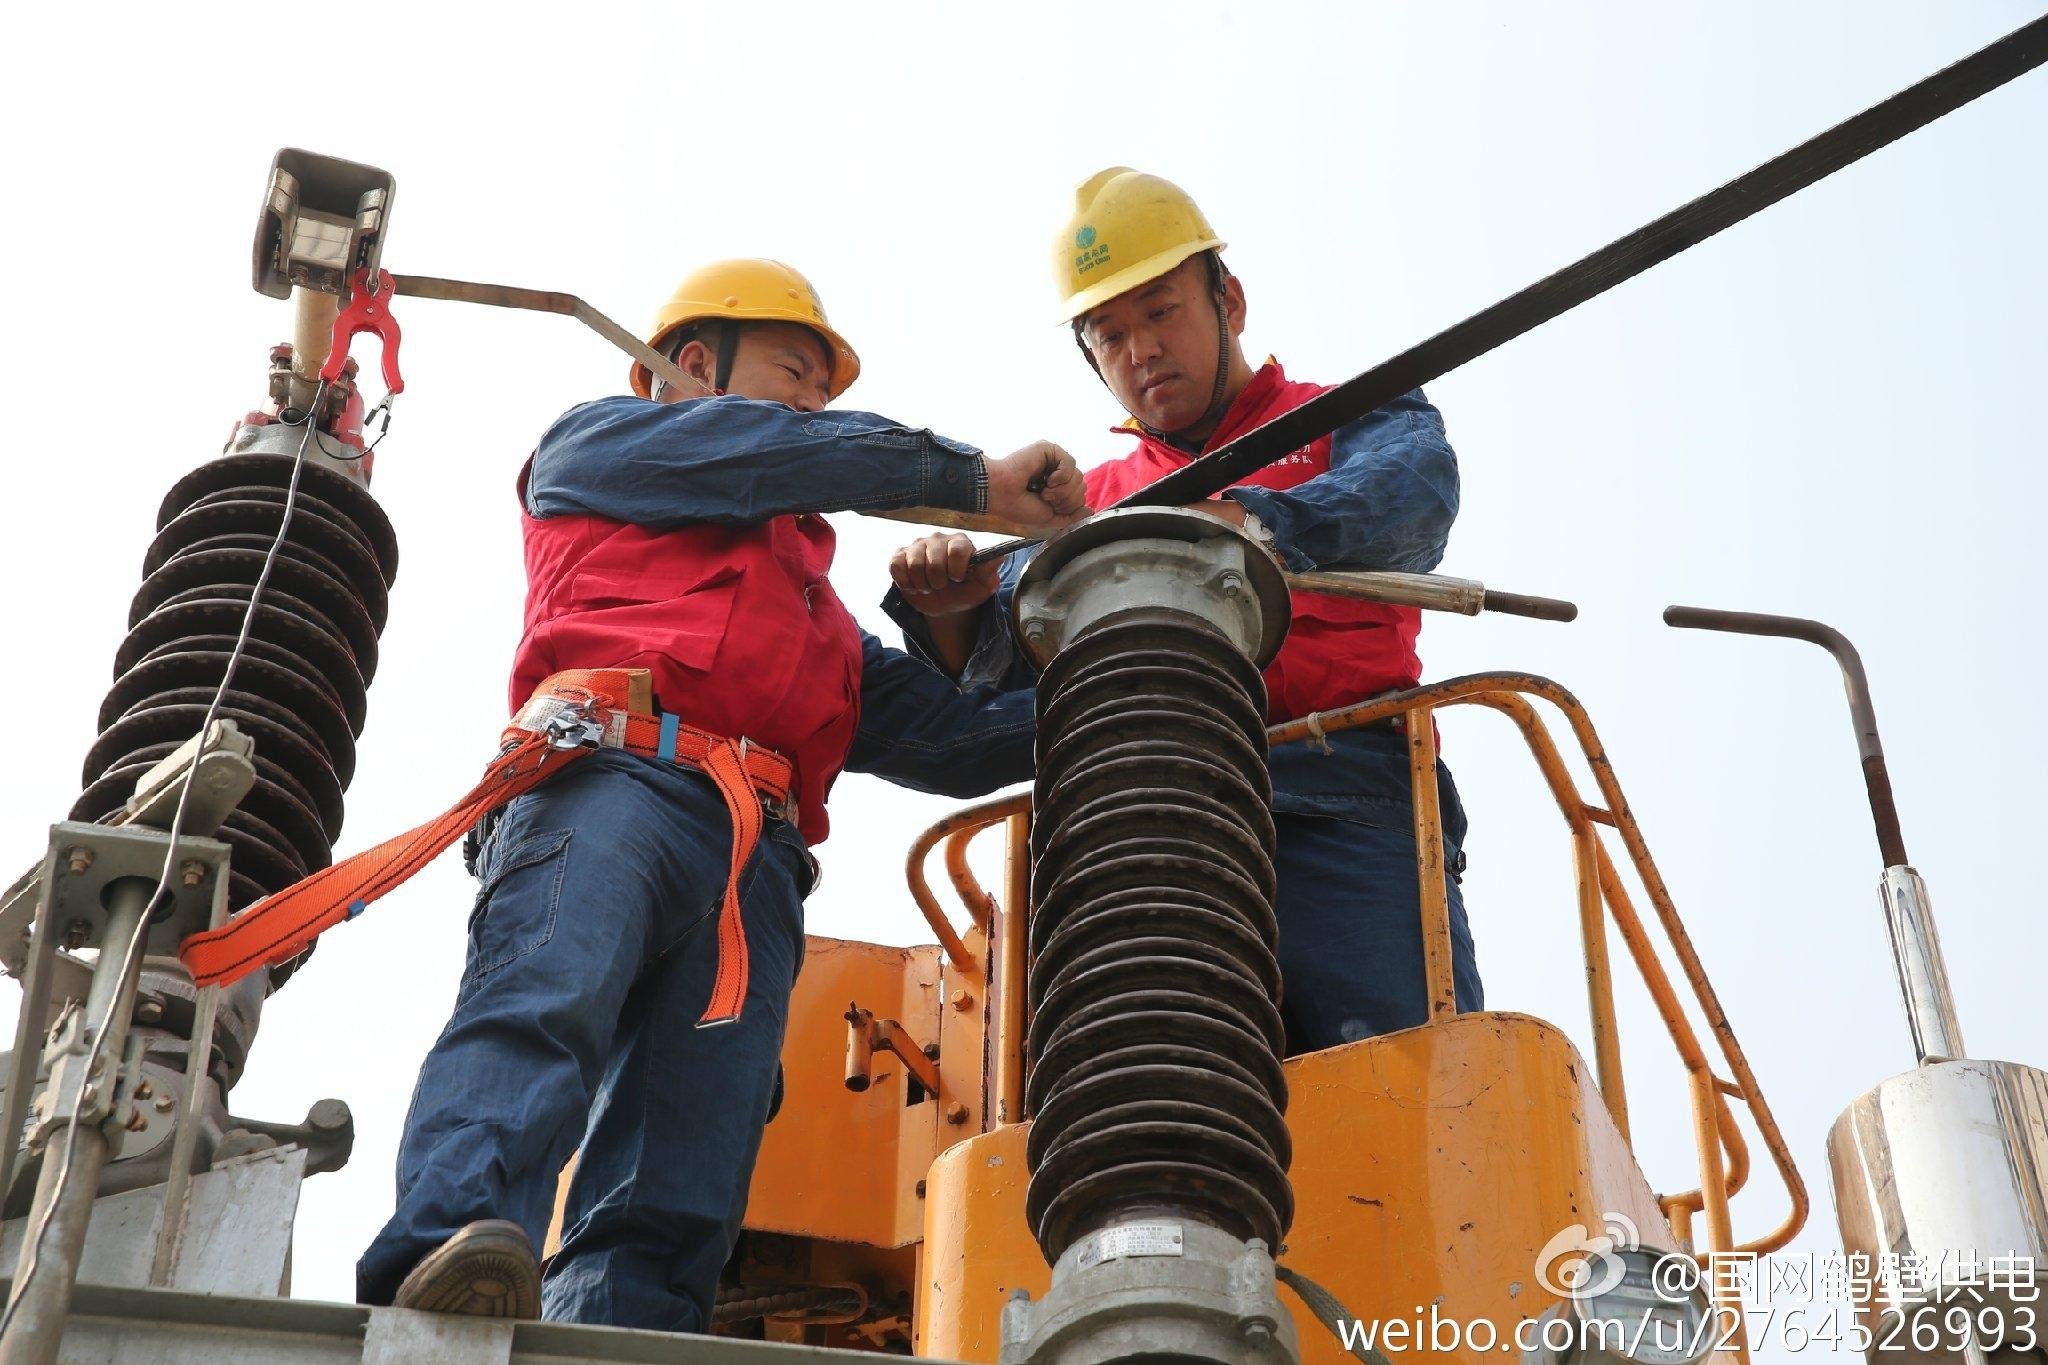helmet: (1025, 165, 1249, 334), (650, 251, 862, 367)
no_wear: (1777, 1033, 2040, 1362)
wear: (504, 396, 862, 839)
